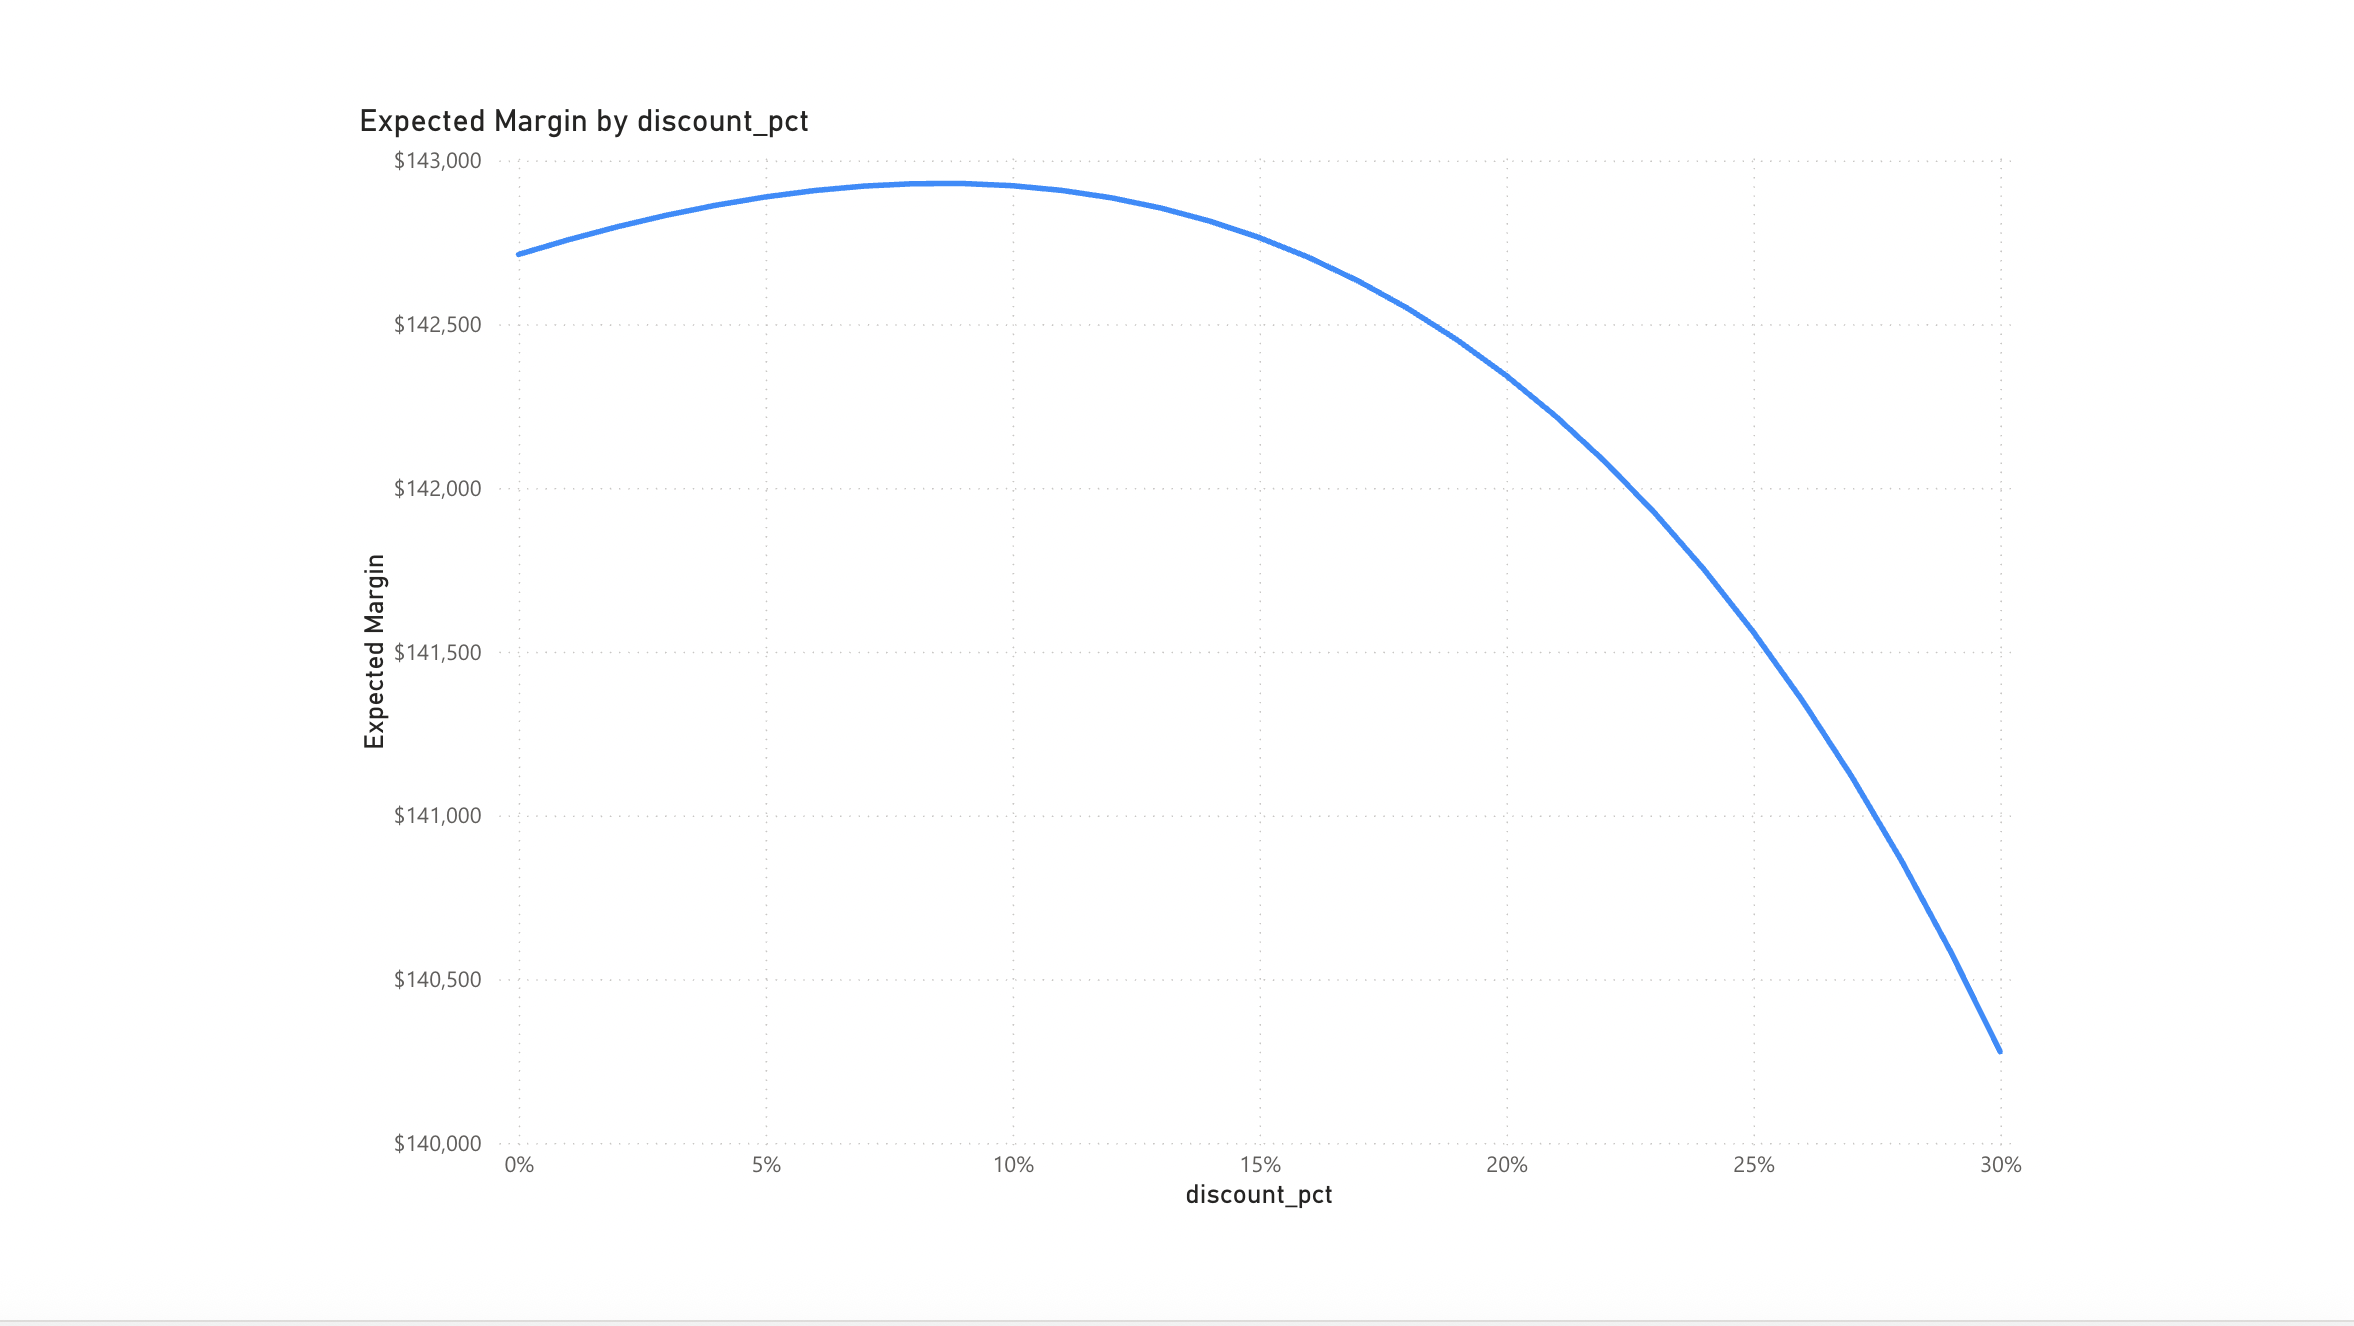

This screenshot's page, from the dashboard's own definition file:
{"tool":"powerbi","page":{"name":"Curve Explorer","canvas":[1280,720],"ordinal":2},"visuals":[{"type":"lineChart","fields":{"Category":["gold_export_curve.discount_pct"],"Y":["gold_dim_date.Expected Margin"]},"box":[189.6,60.9,913,603.5],"z":0}]}

Visuals, with their boxes in screenshot pixels (x1, y1, x2, y2), scaled from the page's 1280x720 canvas onto the 2354x1326 screenshot:
lineChart - gold_export_curve.discount_pct x gold_dim_date.Expected Margin: (left=349, top=112, right=2028, bottom=1224)
